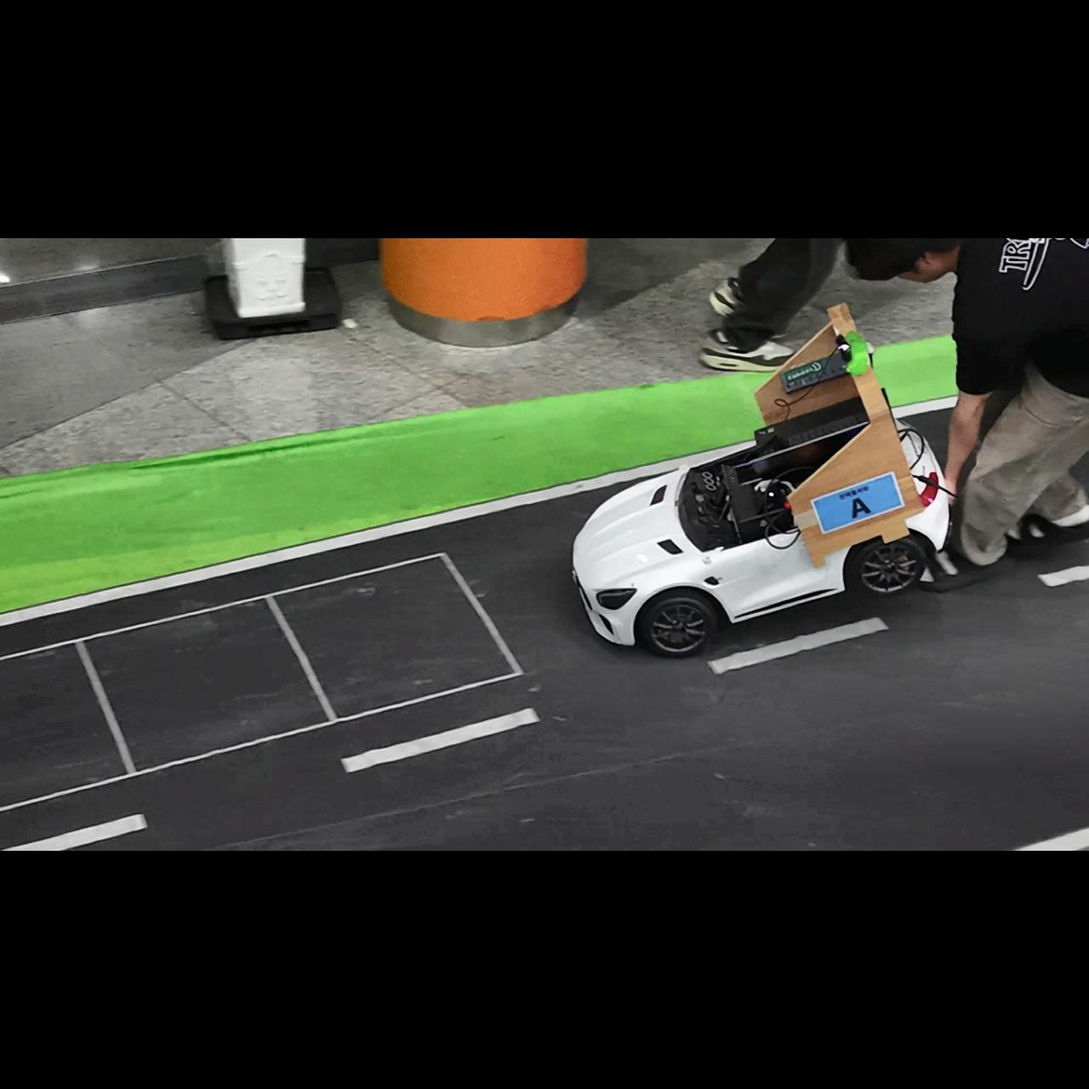broken_line: (339, 708, 542, 773), (706, 617, 890, 675), (1, 814, 148, 850), (1037, 565, 1088, 587)
